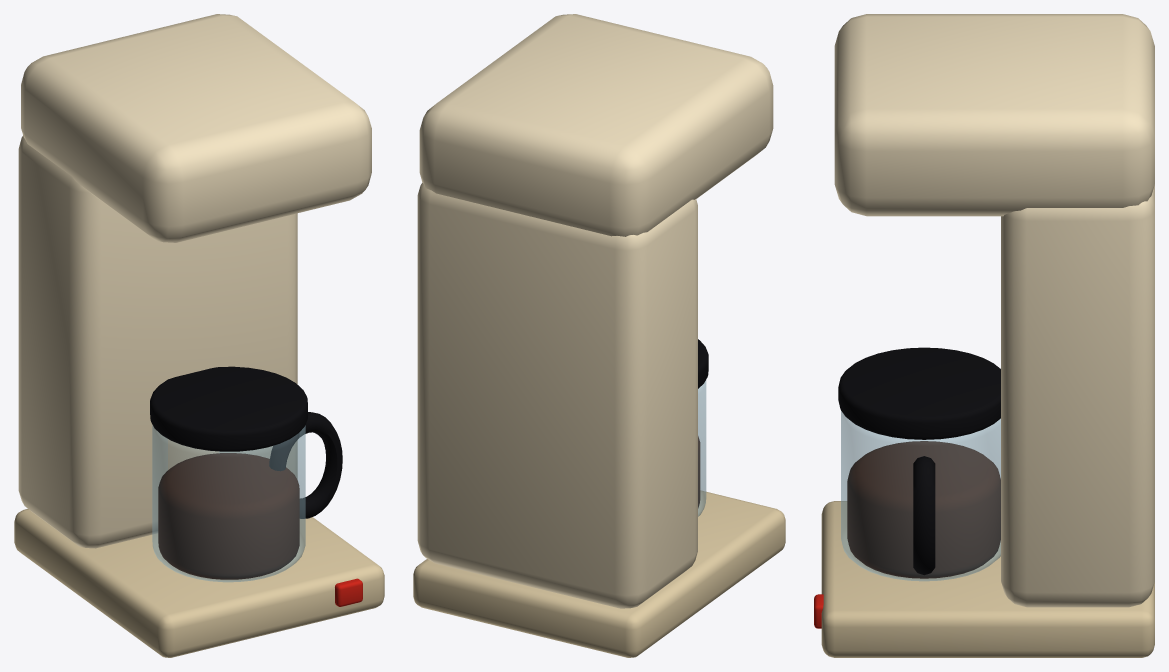
The model's file is coffee_maker.glb.
The picture shows the model from 3 angles, left to right: view 1: azimuth 30°, elevation 25°; view 2: azimuth 150°, elevation 25°; view 3: azimuth 270°, elevation 25°; orthographic projection. The views are drawn at different scales.
Parts seen in each view (by area): view 1: coffee_maker; view 2: coffee_maker; view 3: coffee_maker.
Boxes of the visible parts, bbox=[...] form: coffee_maker: bbox=[14, 14, 384, 657]; coffee_maker: bbox=[413, 14, 785, 657]; coffee_maker: bbox=[814, 14, 1154, 657].
Bounding box in the file's own units: 0.22 × 0.465 × 0.266.
